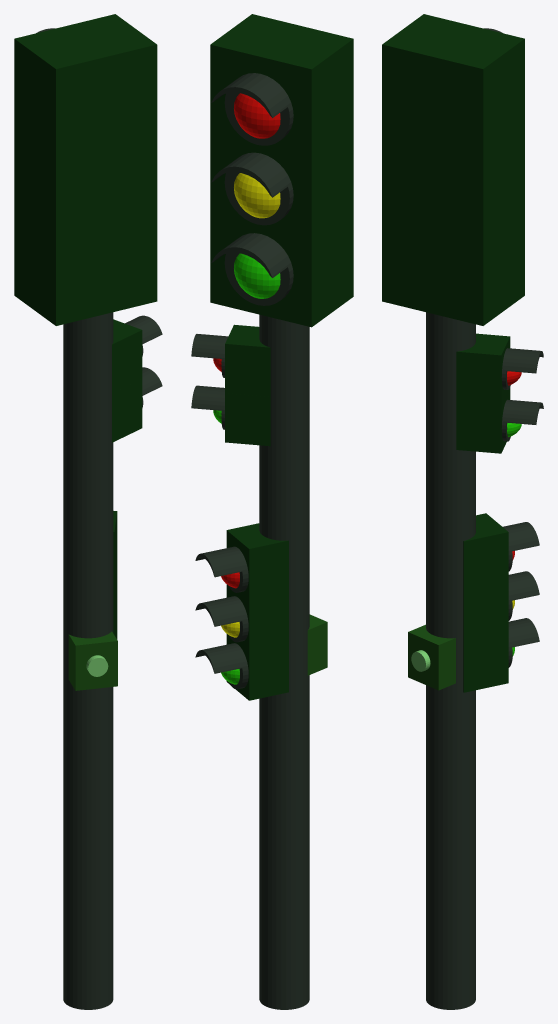
The model's file is Semafro.fbx.
3 views of the same model, side by side, from view 1: azimuth 30°, elevation 25°; view 2: azimuth 150°, elevation 25°; view 3: azimuth 330°, elevation 25° (orthographic).
Parts seen in each view (by area): view 1: Cube, Cylinder, Cube.005, Cube.003, Cube.002, Cube.001, Cylinder.005, Cylinder.006, Cylinder.011; view 2: Cube, Cylinder, Cube.001, Cylinder.001, Cylinder.003, Cylinder.007, Cube.003, Cube.002, Cylinder.008, Cylinder.009, Cylinder.010, Cube.005 (+2 smaller); view 3: Cube, Cylinder, Cube.001, Cube.003, Cube.002, Cube.005, Cylinder.005, Cylinder.006, Cylinder.010, Cylinder.008, Cylinder.009.
Part boxes in pixels (x1=…): Cube: x1=14, y1=14, x2=157, y2=325; Cylinder: x1=63, y1=312, x2=113, y2=1009; Cube.005: x1=68, y1=631, x2=117, y2=690; Cube.003: x1=112, y1=319, x2=142, y2=393; Cube.002: x1=112, y1=379, x2=142, y2=442; Cube.001: x1=113, y1=511, x2=117, y2=639; Cylinder.005: x1=125, y1=315, x2=162, y2=356; Cylinder.006: x1=142, y1=367, x2=162, y2=407; Cylinder.011: x1=86, y1=655, x2=108, y2=676; Cube: x1=210, y1=14, x2=353, y2=327; Cylinder: x1=259, y1=314, x2=309, y2=1009; Cube.001: x1=226, y1=523, x2=288, y2=700; Cylinder.001: x1=211, y1=73, x2=293, y2=145; Cylinder.003: x1=211, y1=152, x2=293, y2=225; Cylinder.007: x1=211, y1=233, x2=293, y2=305; Cube.003: x1=225, y1=324, x2=270, y2=396; Cube.002: x1=225, y1=393, x2=270, y2=446; Cylinder.008: x1=195, y1=643, x2=248, y2=689; Cylinder.009: x1=195, y1=596, x2=248, y2=642; Cylinder.010: x1=195, y1=546, x2=248, y2=592; Cube.005: x1=307, y1=614, x2=327, y2=675; Cube: x1=382, y1=14, x2=524, y2=325; Cylinder: x1=426, y1=312, x2=475, y2=1009; Cube.001: x1=463, y1=513, x2=508, y2=692; Cube.003: x1=456, y1=333, x2=510, y2=404; Cube.002: x1=456, y1=387, x2=510, y2=453; Cube.005: x1=408, y1=624, x2=455, y2=690; Cylinder.005: x1=501, y1=348, x2=543, y2=389; Cylinder.006: x1=501, y1=399, x2=543, y2=441; Cylinder.010: x1=502, y1=522, x2=539, y2=571; Cylinder.008: x1=508, y1=618, x2=539, y2=667; Cylinder.009: x1=508, y1=571, x2=539, y2=620.
Size of the model in its own units: 72.23 by 506 by 62.71.
